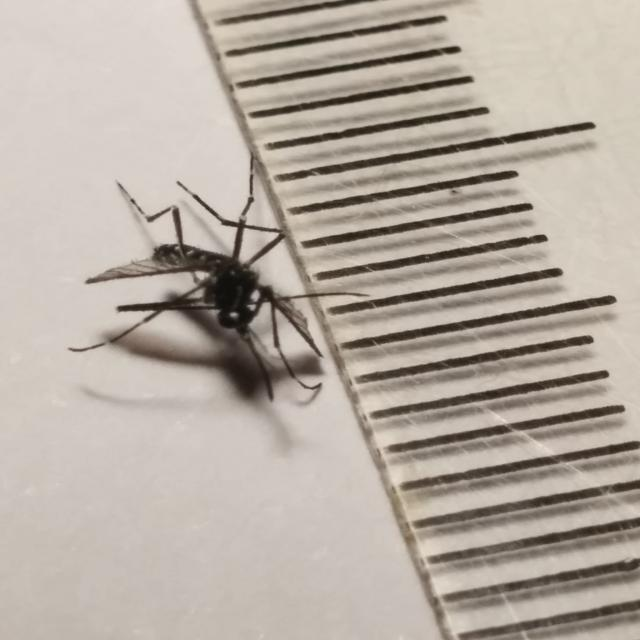albopictus: (66, 122, 419, 418)
